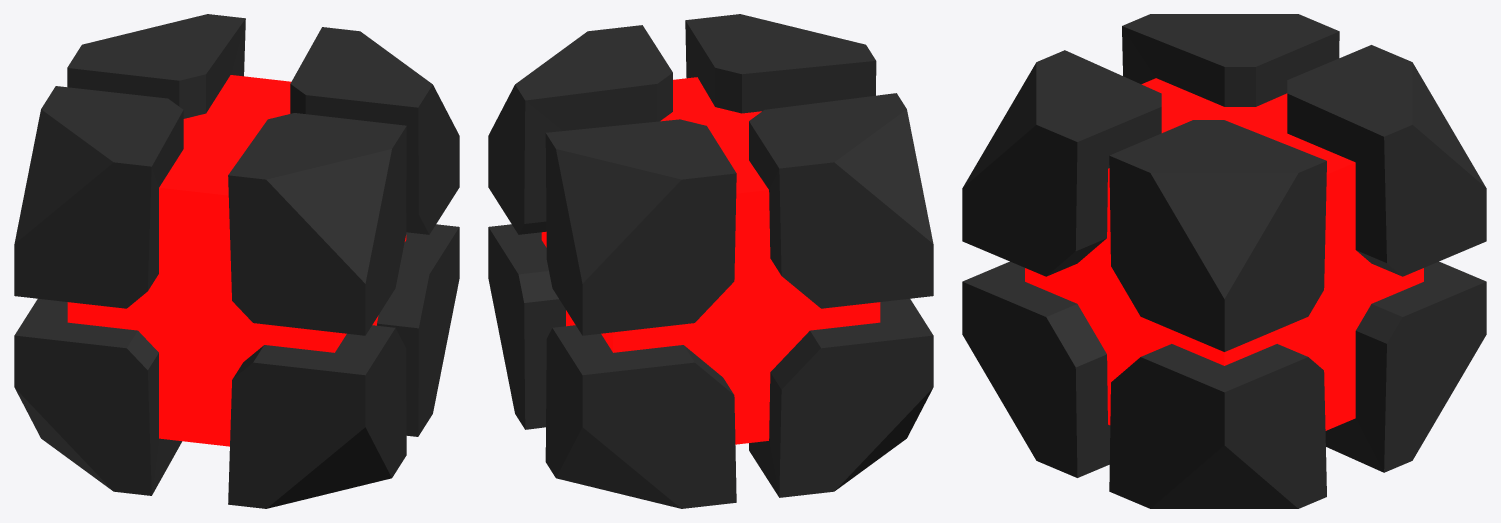
File: stack-mechanical-pack.glb
The picture shows the model from 3 angles, left to right: view 1: azimuth 30°, elevation 25°; view 2: azimuth 150°, elevation 25°; view 3: azimuth 270°, elevation 25°; orthographic projection. The views are drawn at different scales.
Parts seen in each view (by area): view 1: Cube.030; view 2: Cube.030; view 3: Cube.030.
Boxes of the visible parts, x1,y1,x2,y2 form: Cube.030: (14, 14, 459, 508); Cube.030: (488, 14, 933, 508); Cube.030: (962, 14, 1486, 508).
Bounding box in the file's own units: 2.5 × 1.76 × 2.5.
1 material, 1 textured.
